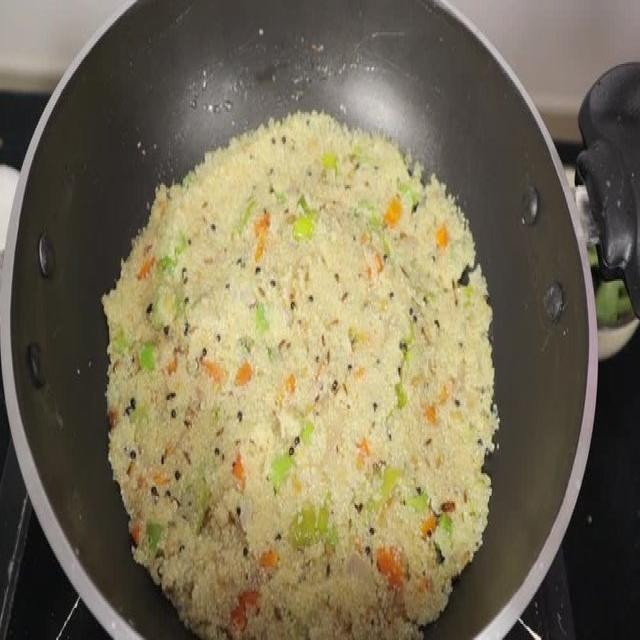UPMA: (102, 112, 498, 638)
